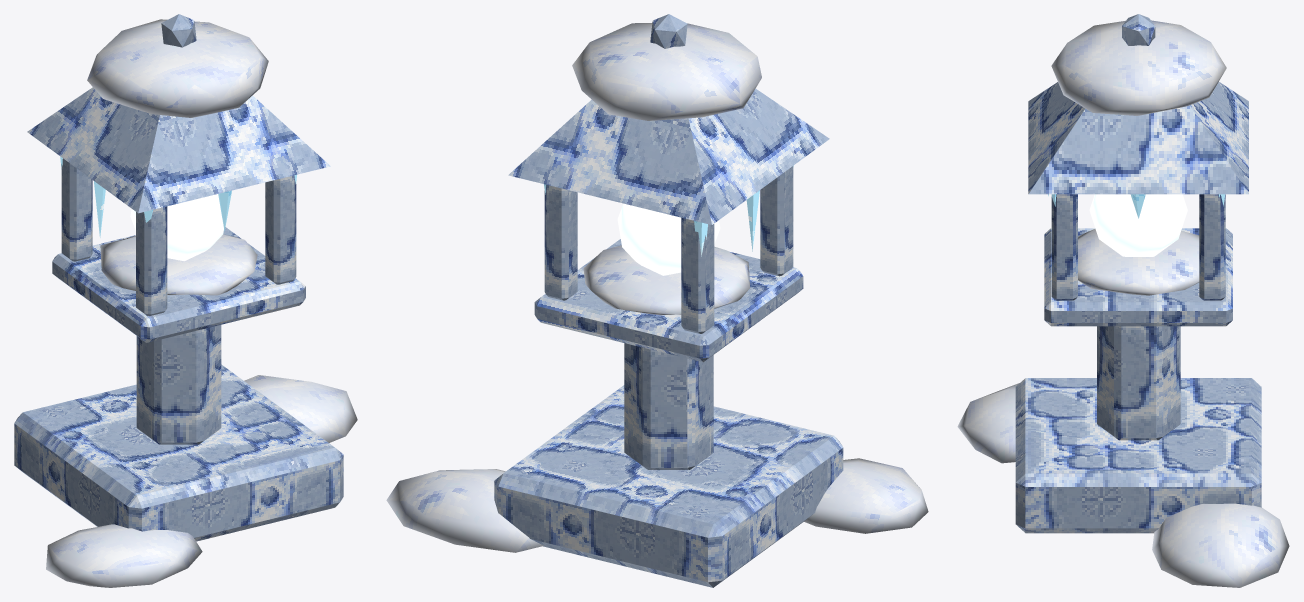
File: frost_lamp.glb
The picture shows the model from 3 angles, left to right: view 1: azimuth 30°, elevation 25°; view 2: azimuth 150°, elevation 25°; view 3: azimuth 270°, elevation 25°; orthographic projection. The views are drawn at different scales.
Parts seen in each view (by area): view 1: Base, Snow, Roof, Floor, Stem, Post.002, Post, Flame, Post.001, Finial, Icicles; view 2: Base, Snow, Roof, Stem, Floor, Post.003, Flame, Post.001, Post, Finial, Icicles; view 3: Base, Snow, Roof, Stem, Floor, Flame, Post.003, Post.002, Finial.
Boxes of the visible parts, x1,y1,x2,y2 form: Base: (14,364,343,541); Snow: (46,19,357,587); Roof: (27,87,330,213); Floor: (52,227,305,342); Stem: (136,325,221,444); Post.002: (265,175,296,284); Post: (136,206,167,316); Flame: (130,194,223,261); Post.001: (61,158,92,261); Finial: (161,14,196,47); Icicles: (60,156,296,237); Base: (494,385,843,587); Snow: (386,23,928,552); Roof: (508,88,829,224); Stem: (624,343,713,469); Floor: (534,239,803,362); Post.003: (544,185,577,300); Flame: (617,203,720,275); Post.001: (681,217,714,333); Post: (760,166,793,276); Finial: (650,14,687,48); Icicles: (544,165,793,256); Base: (1015,378,1261,533); Snow: (957,20,1289,587); Roof: (1028,82,1248,194); Stem: (1097,326,1180,440); Floor: (1044,228,1232,326); Flame: (1089,194,1187,256); Post.003: (1199,194,1225,300); Post.002: (1051,194,1077,300); Finial: (1122,14,1155,45).
Size of the model in its own units: 2.77 by 3.17 by 2.02.
4 materials, 3 textured.
